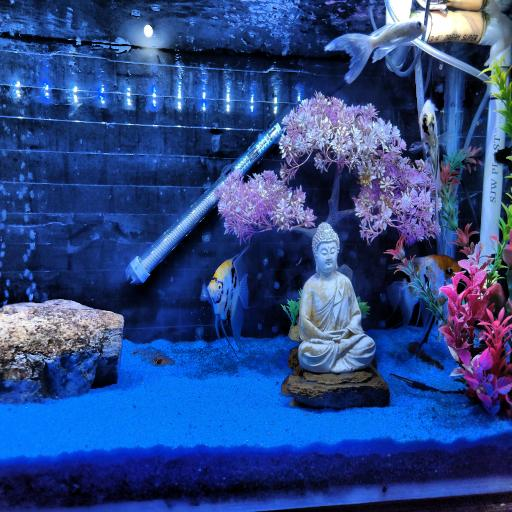Fish: (325, 21, 425, 83), (410, 100, 453, 198), (208, 246, 248, 351), (388, 280, 429, 325), (485, 0, 511, 65)
